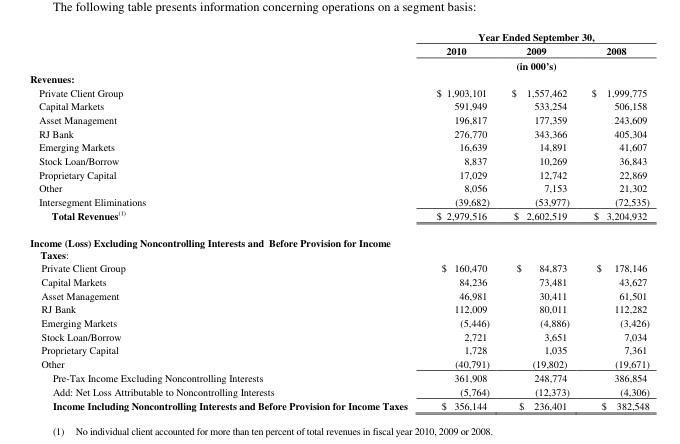table: (29, 29, 648, 412)
table column: (29, 29, 421, 412), (499, 29, 579, 412), (421, 29, 499, 412), (579, 29, 648, 412)
table column header: (29, 29, 648, 71)
table projected row header: (29, 229, 648, 261), (29, 71, 648, 85)
table row: (29, 229, 648, 261), (29, 207, 648, 229), (29, 29, 648, 43), (29, 43, 648, 57), (29, 57, 648, 71), (29, 71, 648, 85), (29, 98, 648, 112), (29, 125, 648, 139), (29, 139, 648, 153), (29, 166, 648, 180), (29, 180, 648, 194), (29, 274, 648, 288), (29, 301, 648, 315), (29, 328, 648, 342), (29, 342, 648, 356), (29, 356, 648, 370), (29, 370, 648, 384), (29, 384, 648, 398), (29, 398, 648, 412), (29, 85, 648, 98), (29, 112, 648, 125), (29, 153, 648, 166), (29, 194, 648, 207), (29, 261, 648, 274), (29, 288, 648, 301), (29, 315, 648, 328)
table spanning cell: (421, 29, 648, 43), (421, 57, 648, 71)
